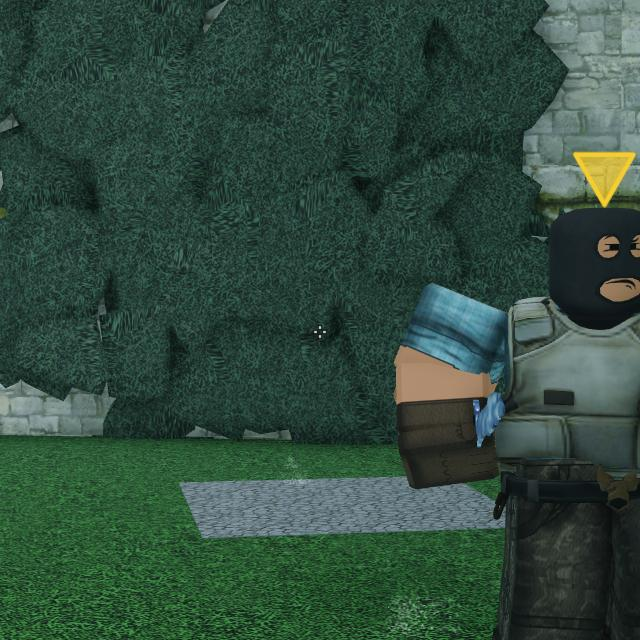Head: (547, 208, 640, 319)
Player: (394, 208, 639, 640)
